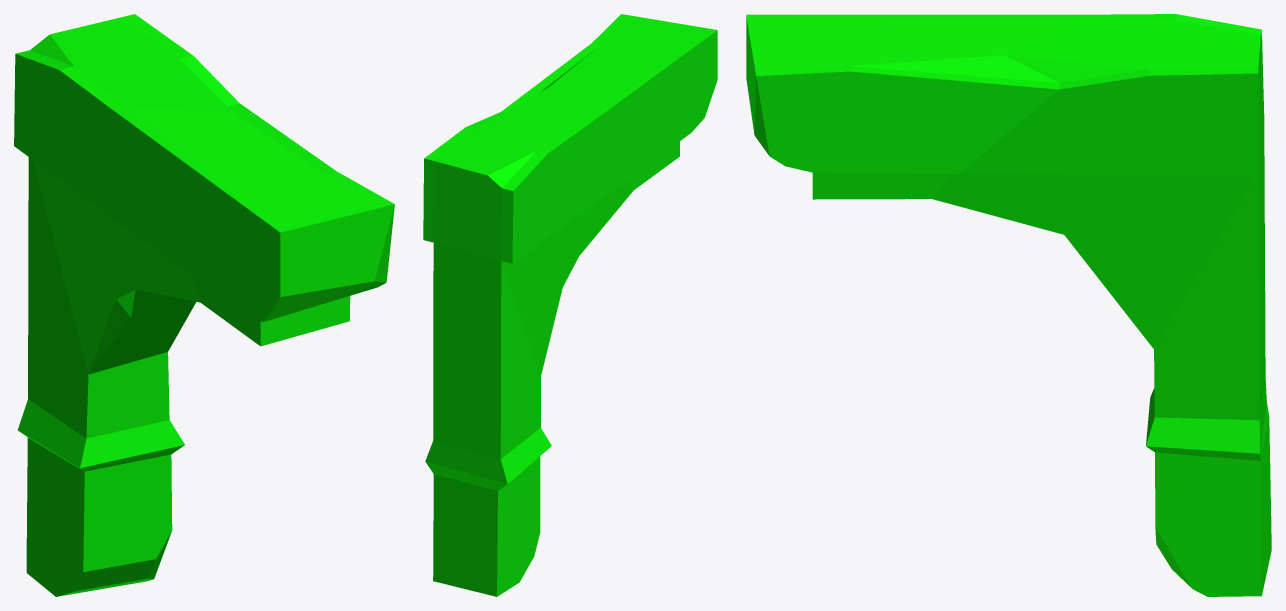
Rendered from SM_Balcony_Support_Decor_Out_A.fbx.
3 views of the same model, side by side, from view 1: azimuth 30°, elevation 25°; view 2: azimuth 150°, elevation 25°; view 3: azimuth 270°, elevation 25° (orthographic). The views are drawn at different scales.
Parts seen in each view (by area): view 1: balcony-support-decor-out-a; view 2: balcony-support-decor-out-a; view 3: balcony-support-decor-out-a.
Boxes of the visible parts, x1=… form: balcony-support-decor-out-a: x1=14, y1=14, x2=394, y2=596; balcony-support-decor-out-a: x1=423, y1=14, x2=717, y2=596; balcony-support-decor-out-a: x1=746, y1=14, x2=1271, y2=596.
Size of the model in its own units: 0.2919 by 1.27 by 1.13.
